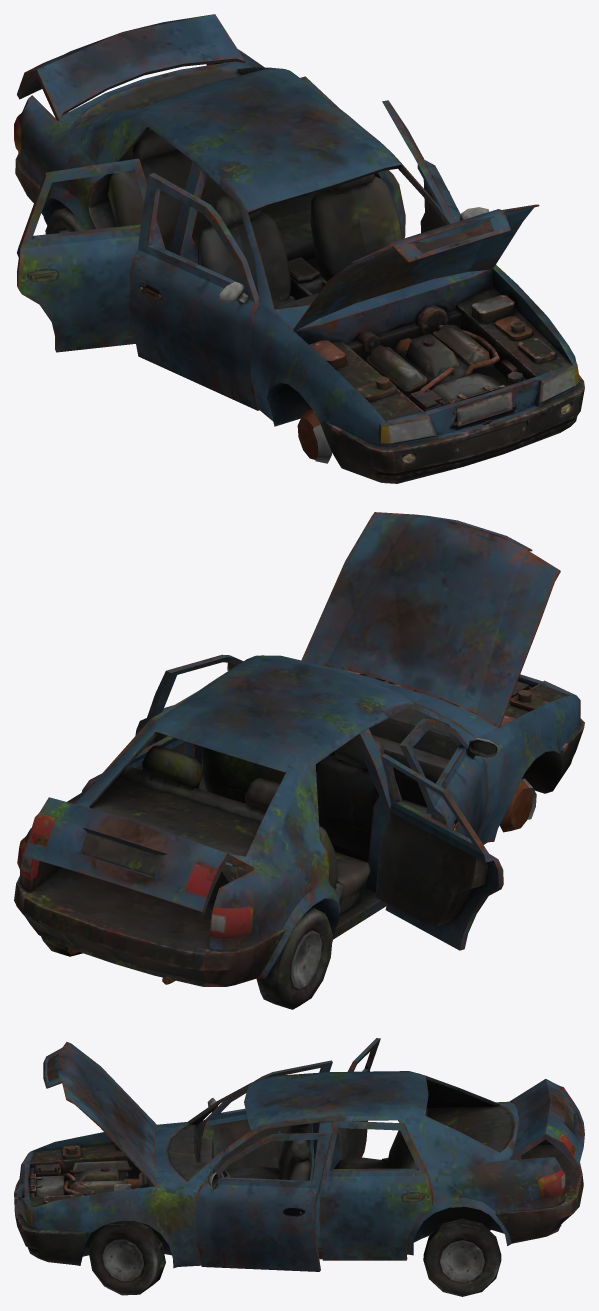
File: sedan.glb
3 views of the same model, one above another, from view 1: azimuth 30°, elevation 25°; view 2: azimuth 150°, elevation 25°; view 3: azimuth 270°, elevation 25° (orthographic). The views are drawn at different scales.
Parts seen in each view (by area): view 1: Object_4; view 2: Object_4; view 3: Object_4.
Boxes of the visible parts, x1=… form: Object_4: x1=14, y1=14, x2=584, y2=483; Object_4: x1=14, y1=512, x2=584, y2=1009; Object_4: x1=14, y1=1038, x2=584, y2=1296.
Bounding box in the file's own units: 12.74 × 7.74 × 21.33.
Materials: 1 (1 with a texture image).
